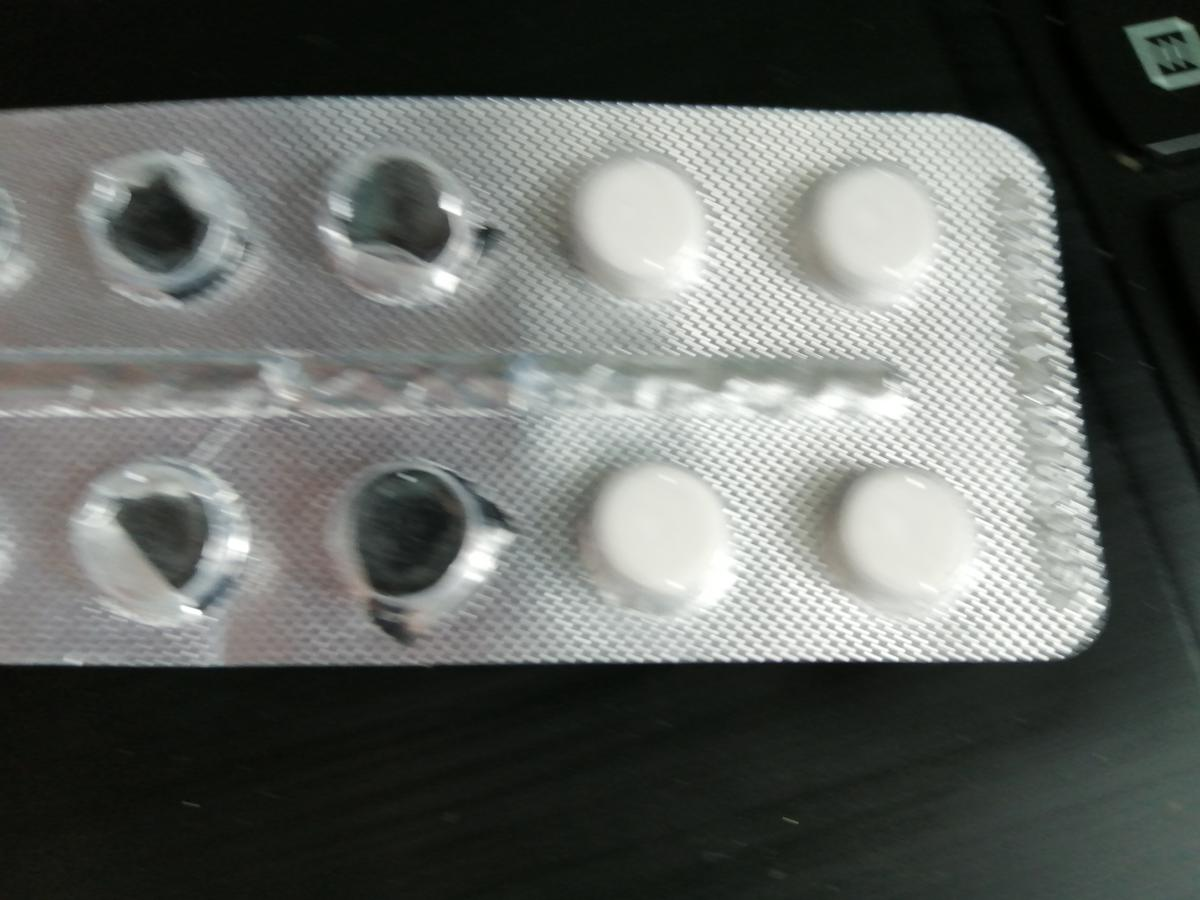tablet: (555, 140, 723, 300), (831, 454, 985, 616), (587, 454, 731, 608), (805, 154, 949, 298)
